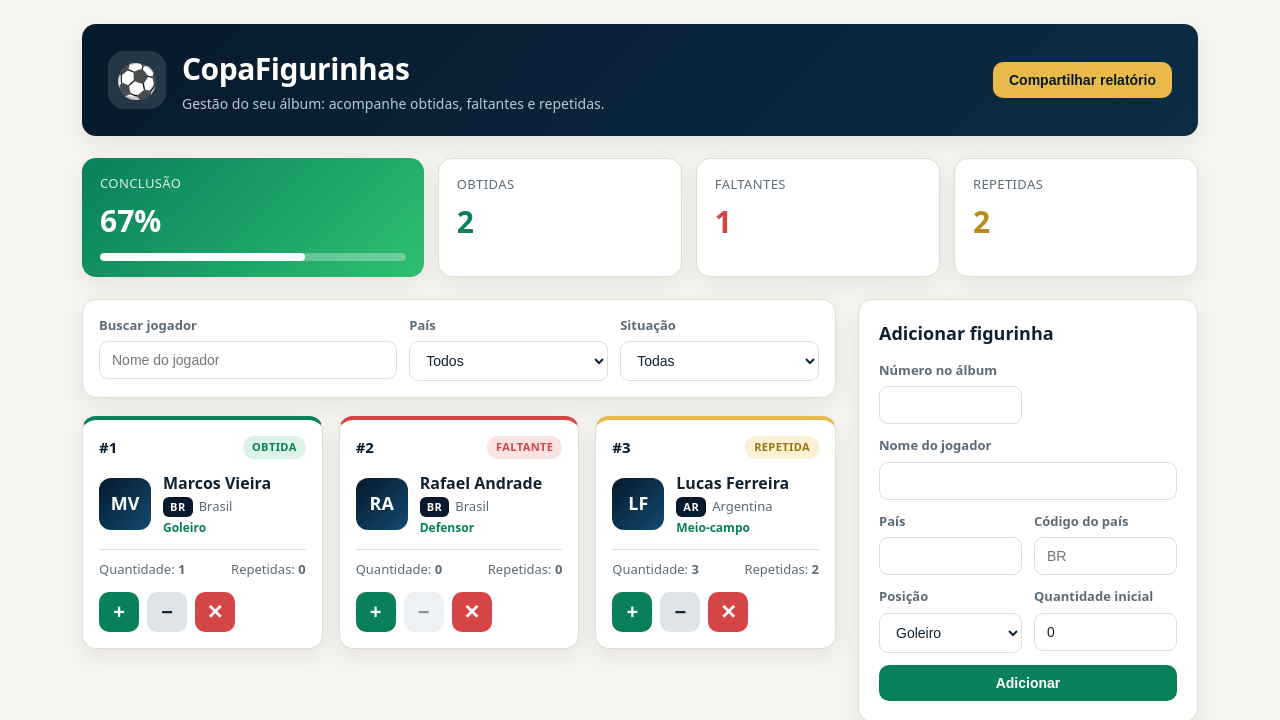
it: abertura do relatório › compartilha o relatório via navigator.share quando disponível
Click the button "Compartilhar relatório" at (1082, 80), box [993,62,1172,98]
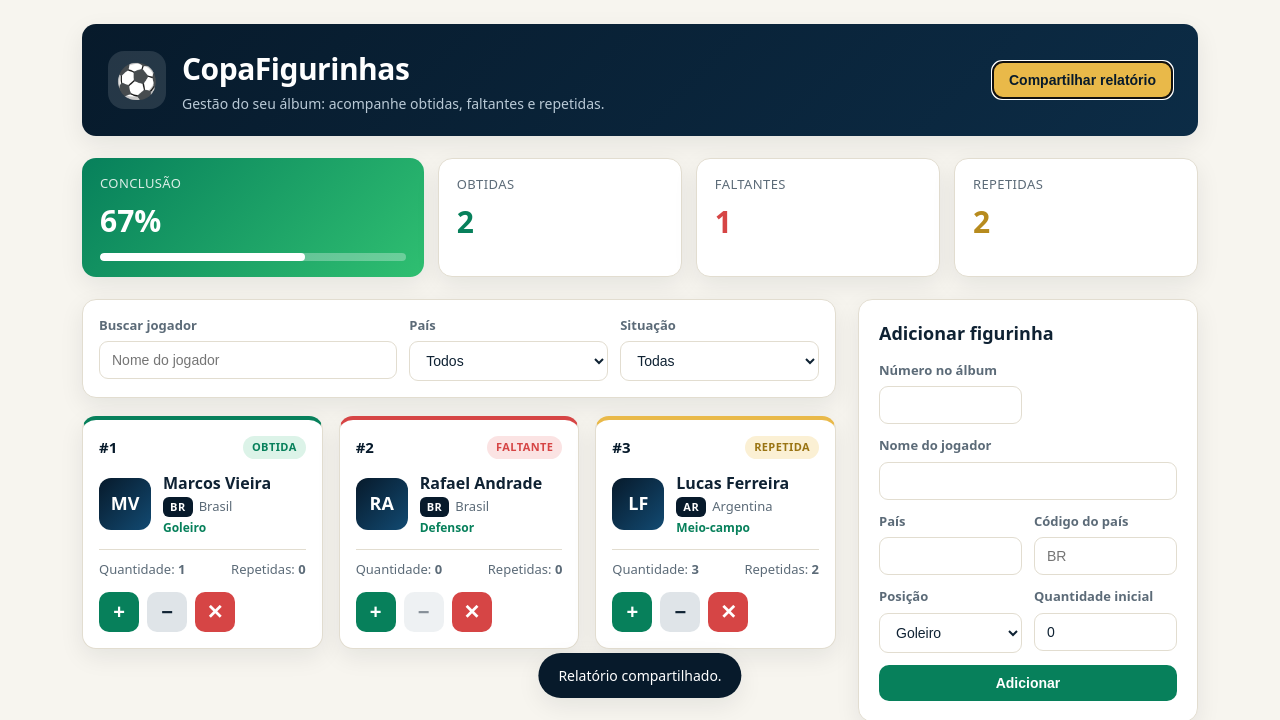
Expected: the text "Relatório compartilhado." is shown, [538,653,742,698]
